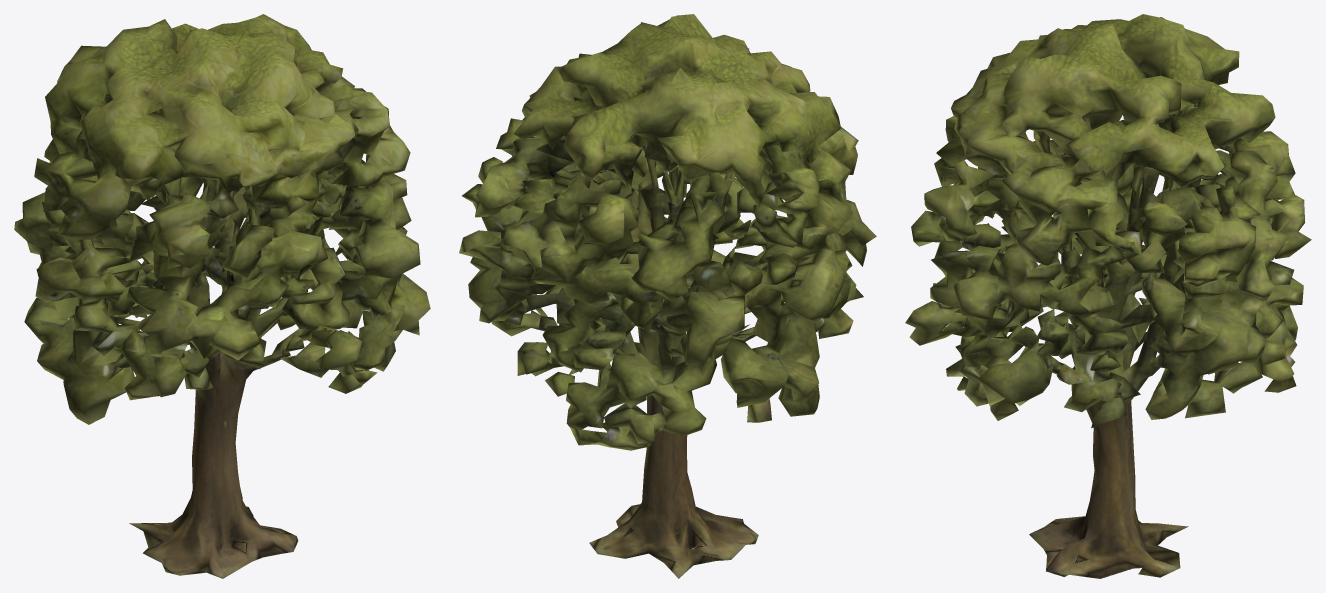
File: Meshy_AI_The_Majestic_Oak_0129095504_texture.glb
The picture shows the model from 3 angles, left to right: view 1: azimuth 30°, elevation 25°; view 2: azimuth 150°, elevation 25°; view 3: azimuth 270°, elevation 25°; orthographic projection. The views are drawn at different scales.
Bounding box in the file's own units: 1.37 × 2 × 1.43.
Materials: 1 (1 with a texture image).
